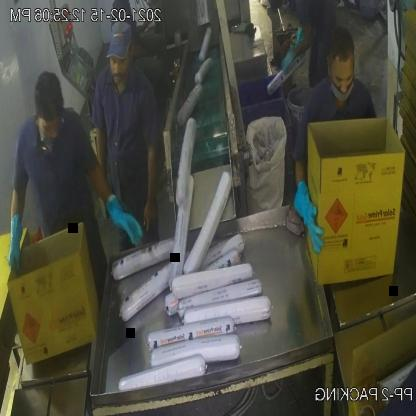glove: (288, 170, 330, 253), (102, 182, 147, 251), (2, 197, 31, 284)
no_glove: (139, 134, 165, 232)
